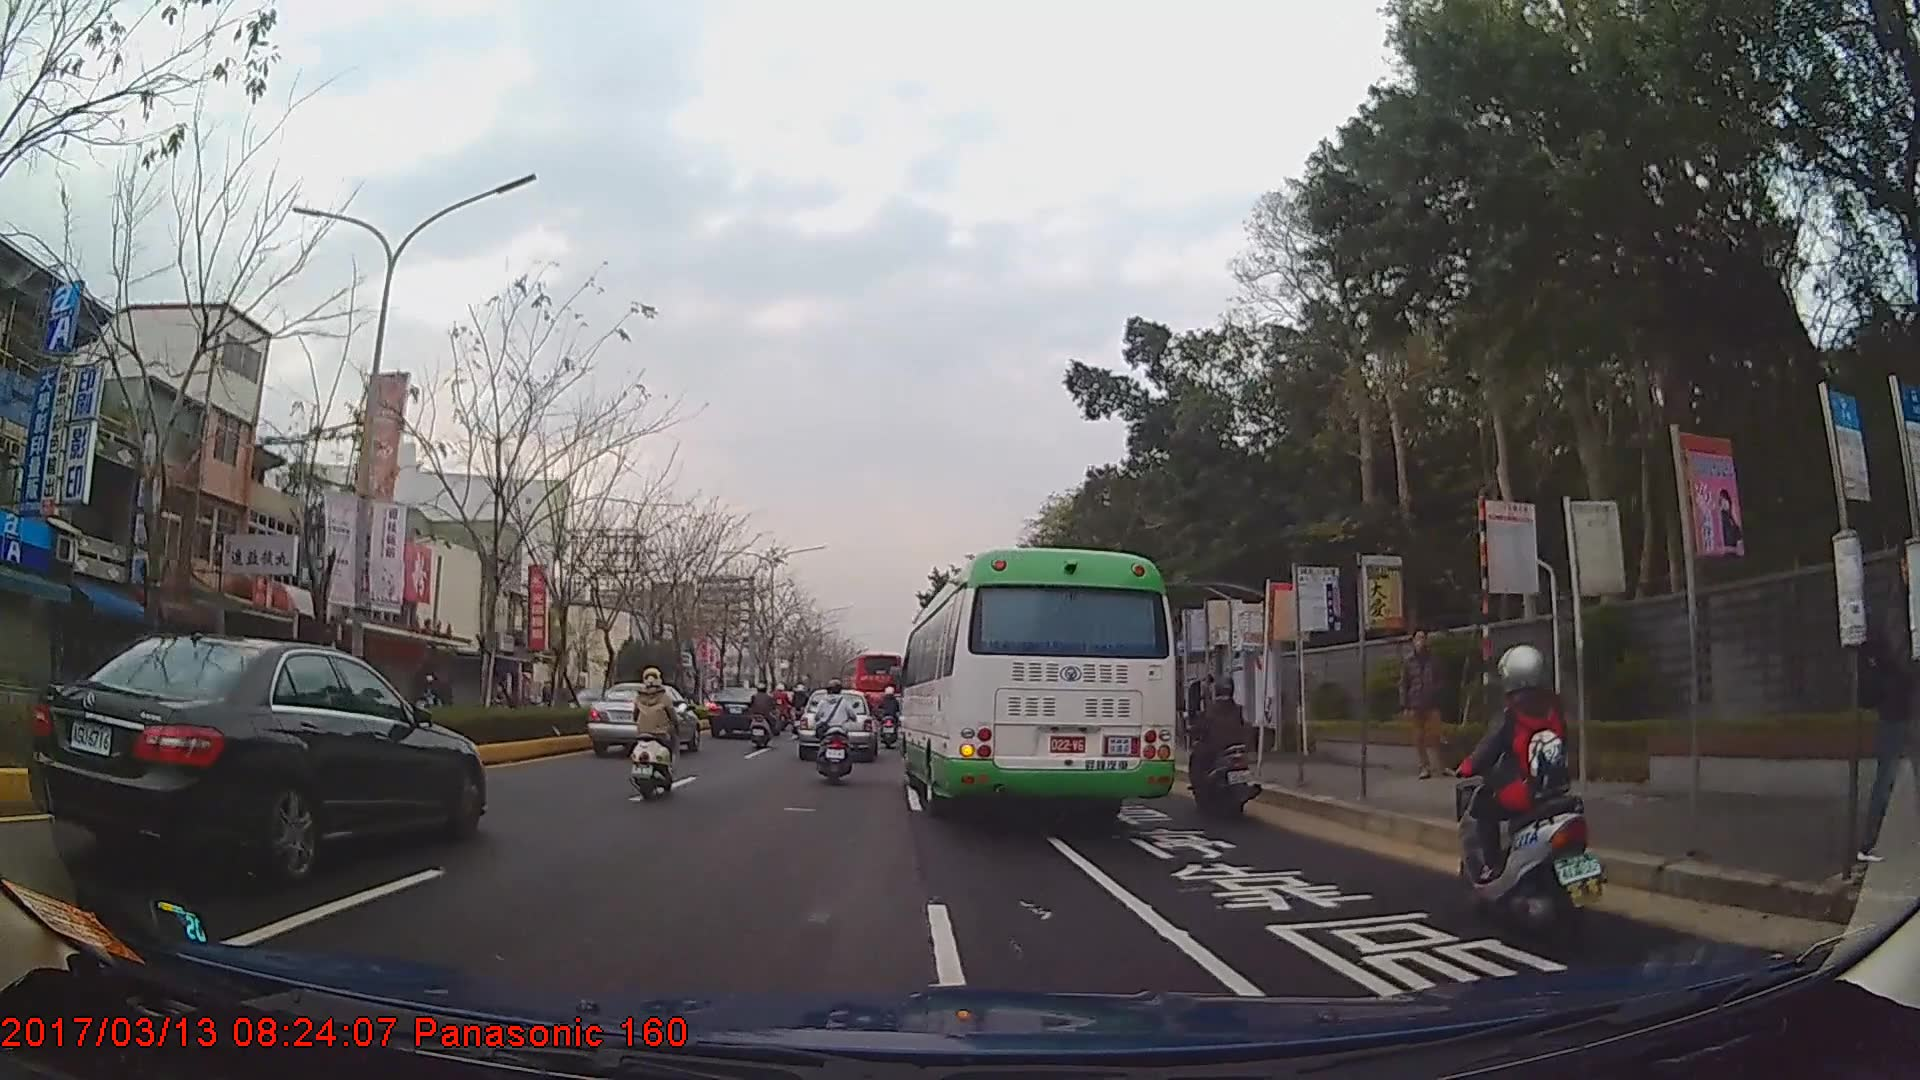pedestrian: (1852, 535, 1920, 864), (1401, 626, 1452, 779)
rider: (1450, 644, 1605, 936), (1184, 681, 1258, 821), (626, 670, 678, 800), (811, 680, 859, 782), (749, 682, 779, 753), (877, 687, 904, 736), (417, 675, 446, 708), (791, 684, 811, 724)
vehicle: (31, 630, 486, 884), (894, 545, 1177, 825), (585, 680, 700, 753), (798, 688, 880, 760), (838, 649, 900, 713), (707, 683, 776, 739)
